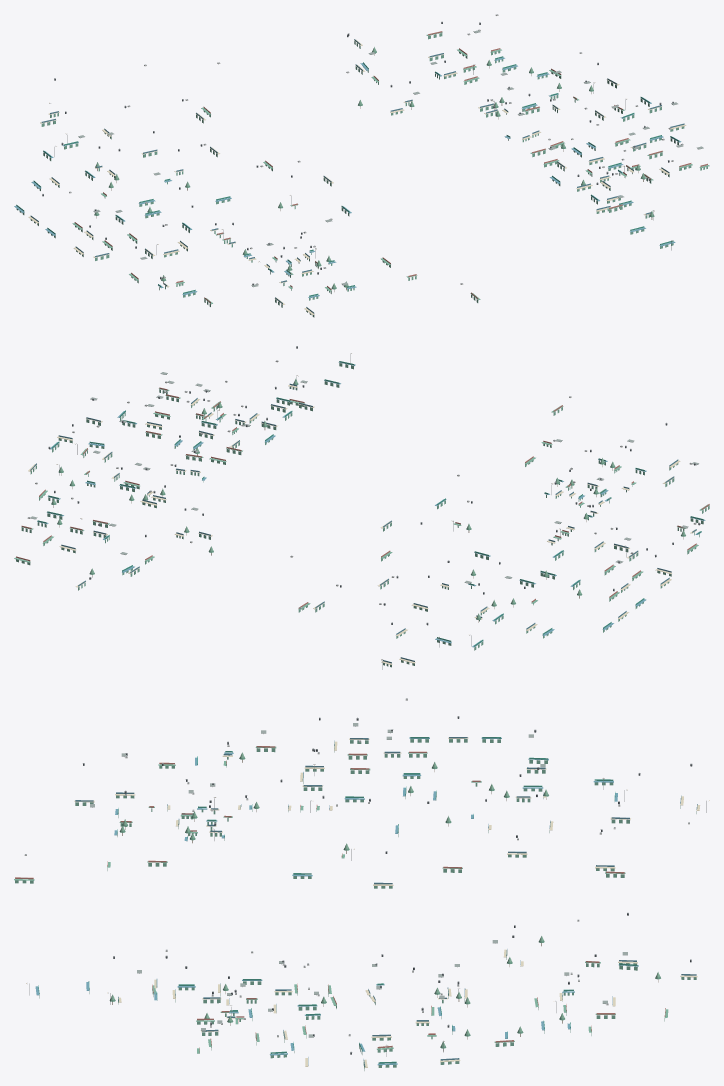
The picture shows the model from 3 angles, top to bottom: view 1: azimuth 30°, elevation 25°; view 2: azimuth 150°, elevation 25°; view 3: azimuth 270°, elevation 25°; orthographic projection. The views are drawn at different scales.
Visible parts, largest first — view 1: Station neighborhood architectural details; view 2: Station neighborhood architectural details; view 3: Station neighborhood architectural details.
Boxes of the visible parts, bbox=[...] form: Station neighborhood architectural details: bbox=[14, 14, 709, 317]; Station neighborhood architectural details: bbox=[14, 346, 709, 669]; Station neighborhood architectural details: bbox=[14, 698, 709, 1070].
Size of the model in its own units: 421 by 33.9 by 375.
